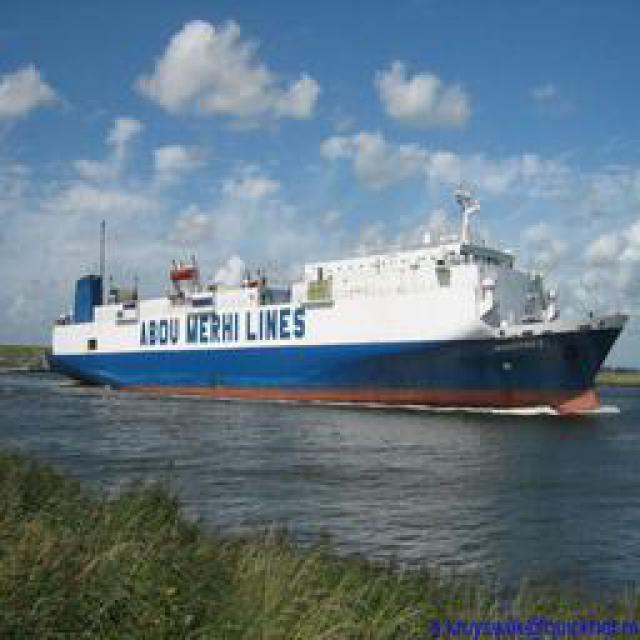Ship: (44, 199, 629, 412)
